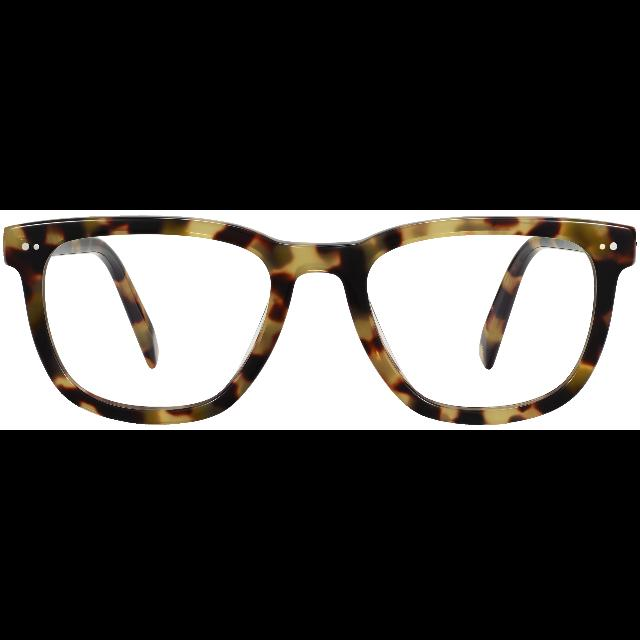glasses: (1, 212, 637, 428)
